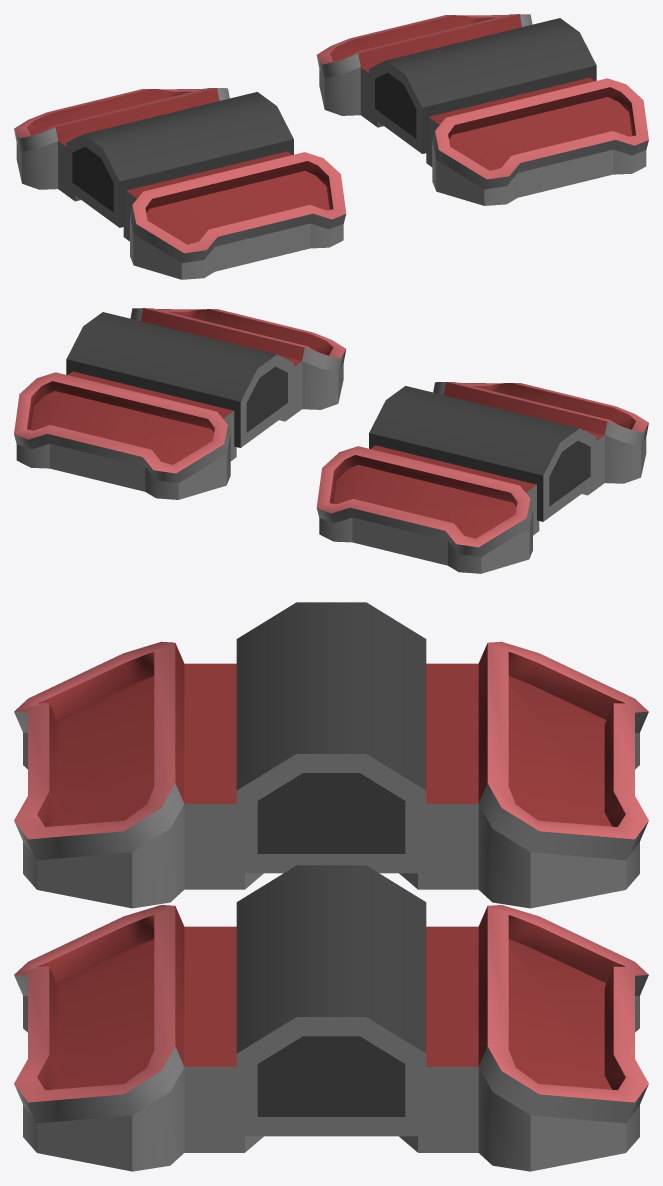
File: Foot_1lvl.fbx
The picture shows the model from 3 angles, top to bottom: view 1: azimuth 30°, elevation 25°; view 2: azimuth 150°, elevation 25°; view 3: azimuth 270°, elevation 25°; orthographic projection. The views are drawn at different scales.
Visible parts, largest first — view 1: finnger-1.L.010, finnger-1.R.010, foot.R.010, foot.L.010, finnger-2.R.010, finnger-2.L.010; view 2: finnger-2.L.010, finnger-2.R.010, foot.R.010, foot.L.010, finnger-1.R.010, finnger-1.L.010; view 3: finnger-1.L.010, finnger-2.L.010, finnger-2.R.010, finnger-1.R.010, foot.L.010, foot.R.010.
Part boxes in pixels (x1,y1,x2,y2): finnger-1.L.010: (426, 77, 648, 205); finnger-1.R.010: (123, 151, 346, 279); foot.R.010: (66, 92, 293, 227); foot.L.010: (369, 18, 596, 153); finnger-2.R.010: (14, 88, 229, 201); finnger-2.L.010: (316, 14, 532, 127); finnger-2.L.010: (14, 371, 236, 499); finnger-2.R.010: (316, 445, 539, 573); foot.R.010: (369, 386, 596, 521); foot.L.010: (66, 312, 293, 447); finnger-1.R.010: (433, 382, 648, 495); finnger-1.L.010: (130, 308, 346, 421); finnger-1.L.010: (14, 905, 263, 1171); finnger-2.L.010: (399, 905, 648, 1171); finnger-2.R.010: (399, 641, 648, 908); finnger-1.R.010: (14, 641, 263, 908); foot.L.010: (236, 865, 426, 1136); foot.R.010: (236, 602, 426, 873).
Size of the model in its own units: 77.97 by 11.65 by 47.43.
